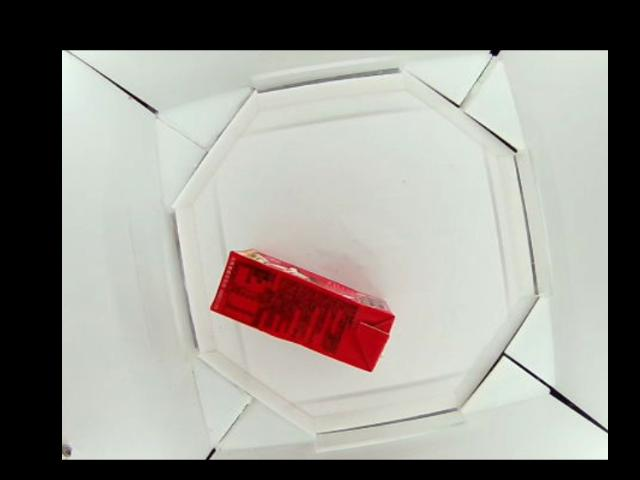Bottle: (212, 247, 398, 370)
